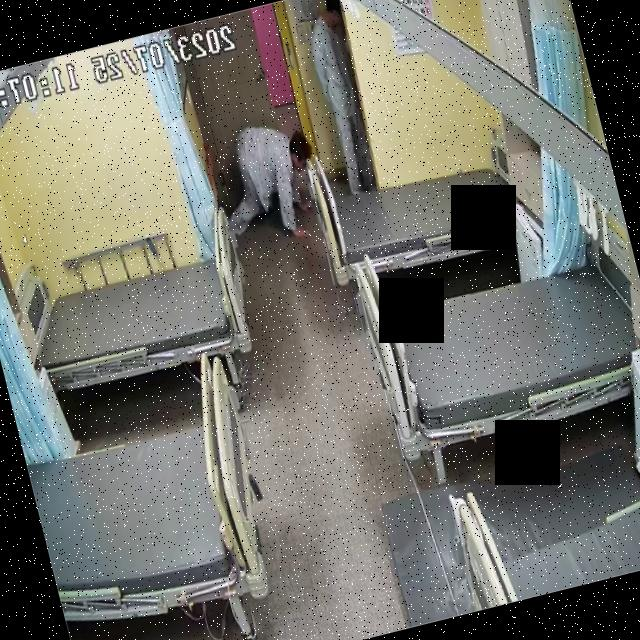bed: (10, 348, 284, 639), (360, 243, 640, 455), (7, 231, 263, 403), (314, 144, 522, 285)
fall: (201, 112, 330, 248)
patient: (202, 110, 332, 250), (300, 0, 387, 194)
